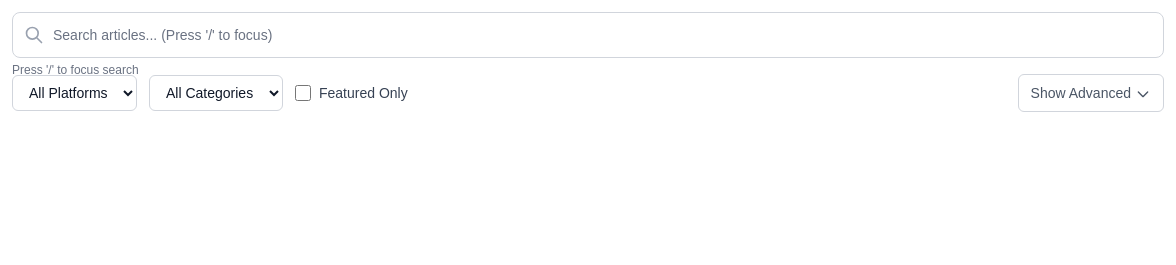
Test case: WritingFilters Component › should toggle advanced filters section
Check: the text "advanced filters" is not shown
Note: Click to show advanced filters
Click the button "Show Advanced".
click(1091, 93)  # box top-left (1018, 74), bottom-right (1164, 112)
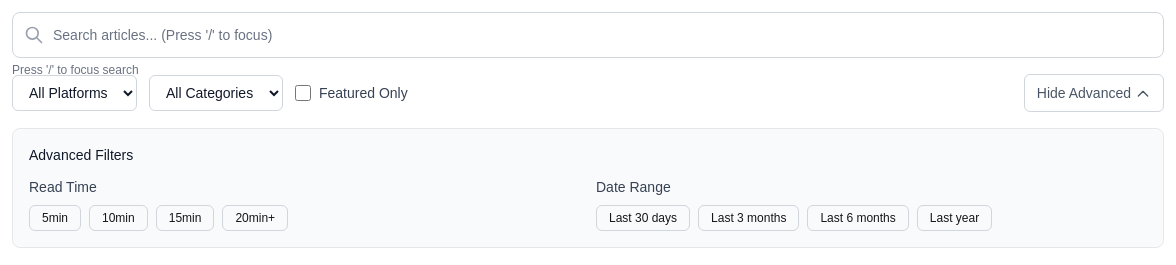
Check: the heading "Advanced Filters" is shown, box top-left (29, 147), bottom-right (133, 163)
Check: the text "Read Time" is shown, box top-left (29, 179), bottom-right (97, 195)
Check: the text "Date Range" is shown, box top-left (596, 179), bottom-right (671, 195)
Note: Click to hide advanced filters
Click the button "Hide Advanced".
click(1094, 93)  # box top-left (1024, 74), bottom-right (1164, 112)
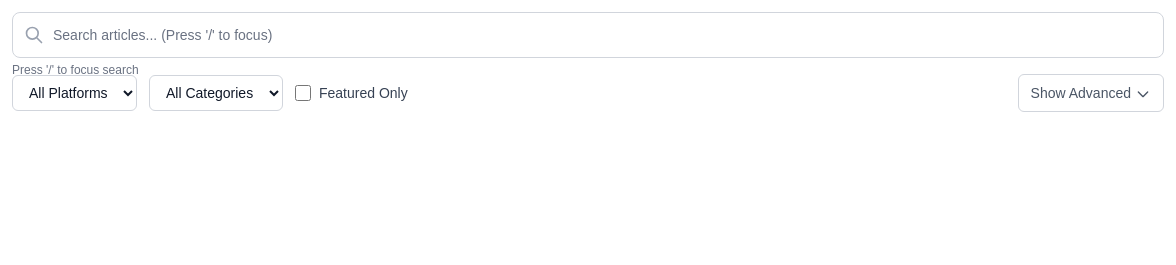
Check: the heading "Advanced Filters" is gone
